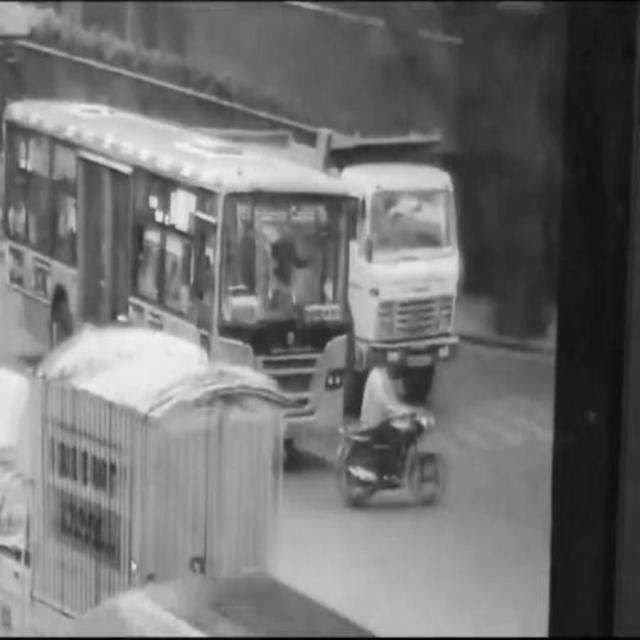vehicle: (8, 99, 348, 439), (316, 135, 460, 397), (338, 350, 444, 516)
